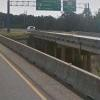Bridge: (3, 25, 97, 89)
